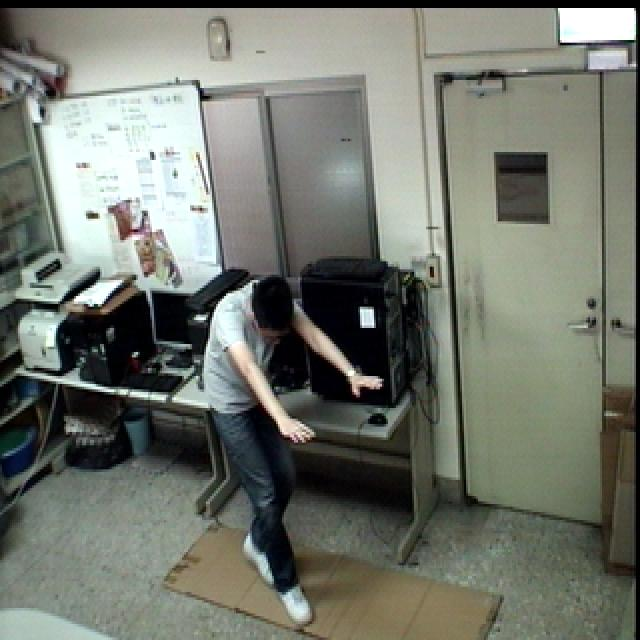bend: (195, 255, 392, 628)
